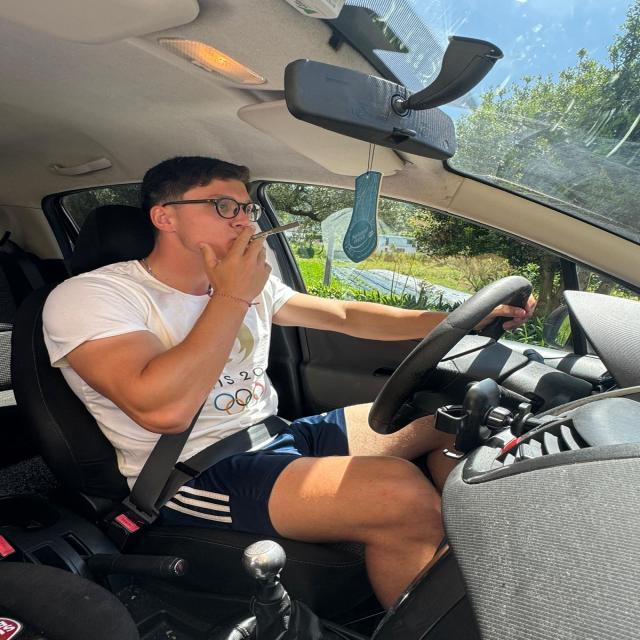Cigarette: (239, 218, 303, 242)
Seatbelt: (95, 241, 292, 550)
